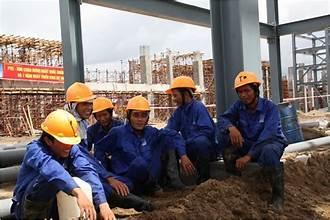Helmet: (40, 108, 81, 144), (65, 81, 96, 103), (164, 75, 196, 94), (233, 71, 261, 89), (125, 95, 151, 112), (91, 96, 114, 113)
Person: (215, 70, 288, 213), (10, 110, 89, 220), (162, 75, 217, 189), (112, 92, 165, 194), (64, 80, 113, 155)
Safety Boot: (270, 161, 285, 213)
bare-arms: (72, 190, 93, 219), (108, 174, 131, 196), (226, 123, 243, 147), (177, 155, 195, 177), (95, 202, 116, 220), (235, 156, 252, 170)
no-vest: (20, 151, 85, 215), (236, 105, 280, 158), (111, 133, 159, 181), (173, 111, 216, 150)
